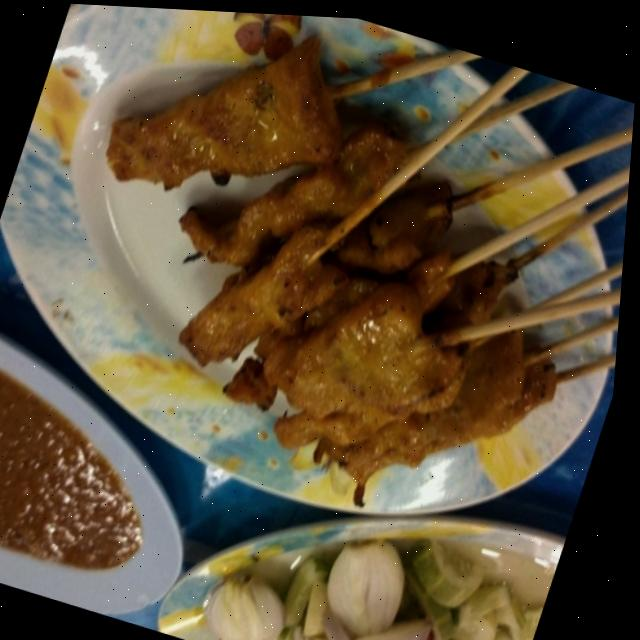牛肉菜式: (0, 0, 640, 595)
